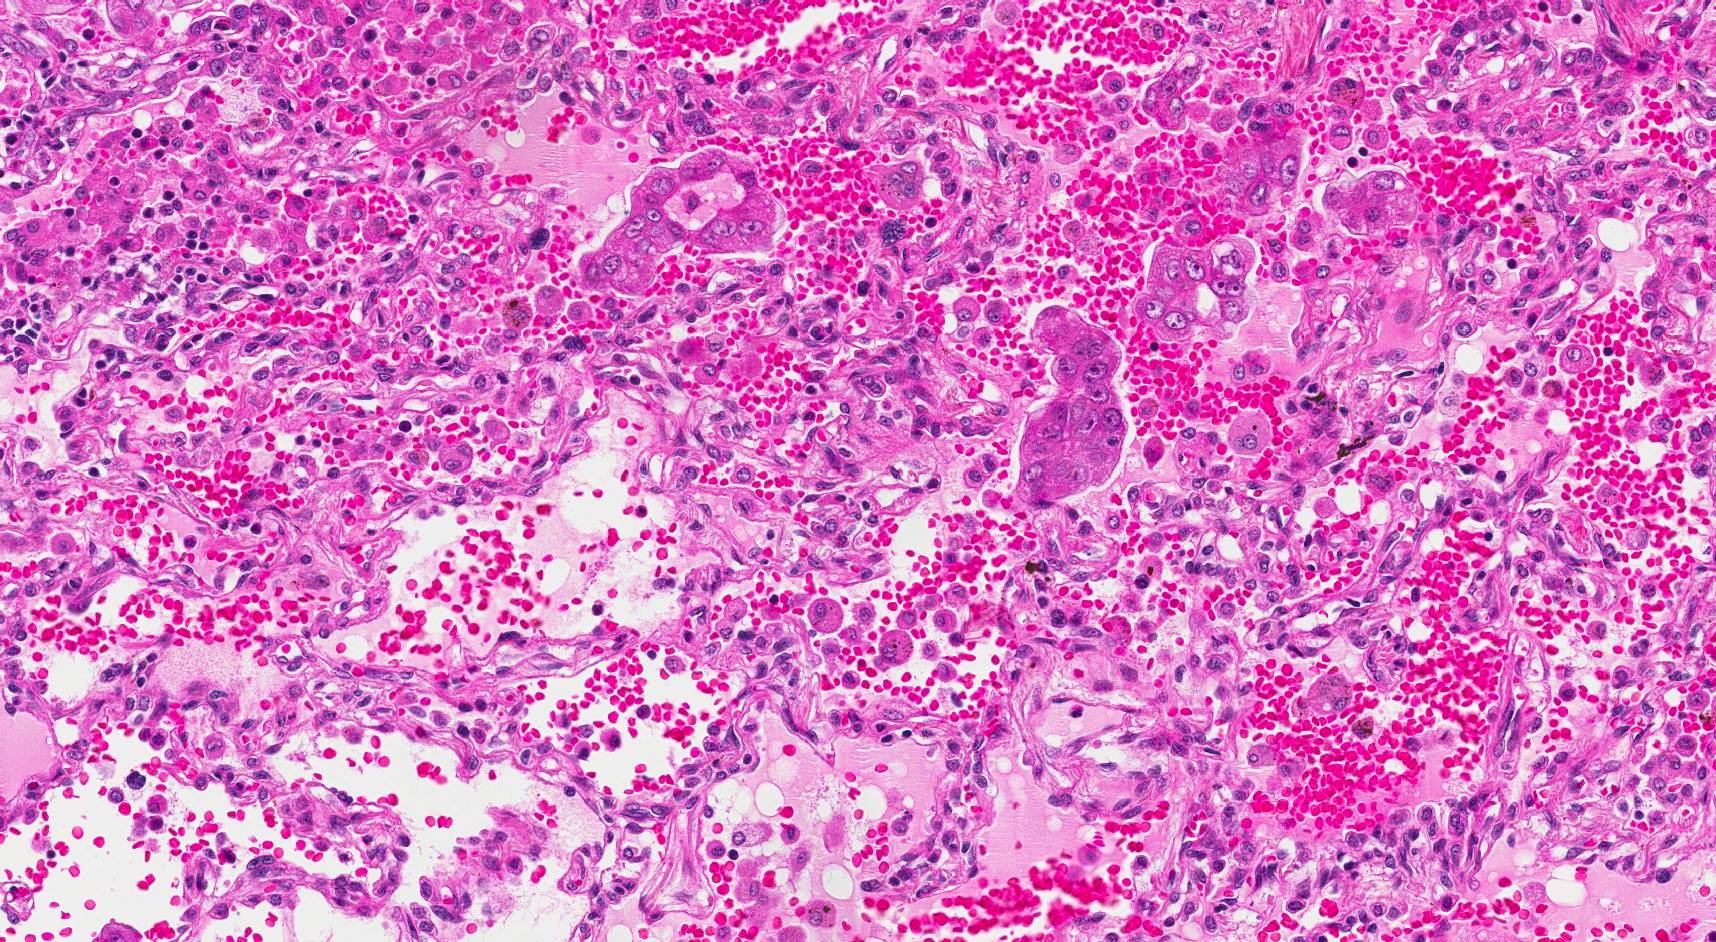stas: (573, 150, 778, 295), (1013, 306, 1128, 507), (1135, 238, 1258, 343), (1323, 168, 1413, 234)
